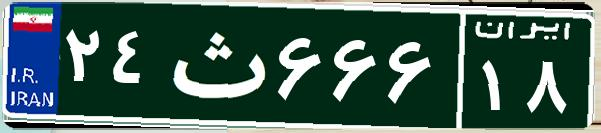1: (475, 38, 525, 113)
2: (57, 26, 110, 107)
4: (110, 28, 158, 105)
6: (385, 28, 445, 110), (273, 28, 330, 110), (330, 28, 385, 110)
8: (525, 38, 570, 115)
ث: (158, 15, 273, 115)
